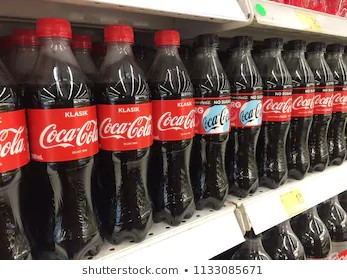coke-bottle-700ml: (22, 18, 106, 260), (93, 21, 161, 239), (150, 31, 206, 222)
coke-diet/zero-bottle-700ml: (189, 28, 239, 210), (227, 35, 264, 198), (264, 35, 292, 188), (285, 39, 313, 176), (309, 41, 329, 168), (331, 42, 346, 163)
